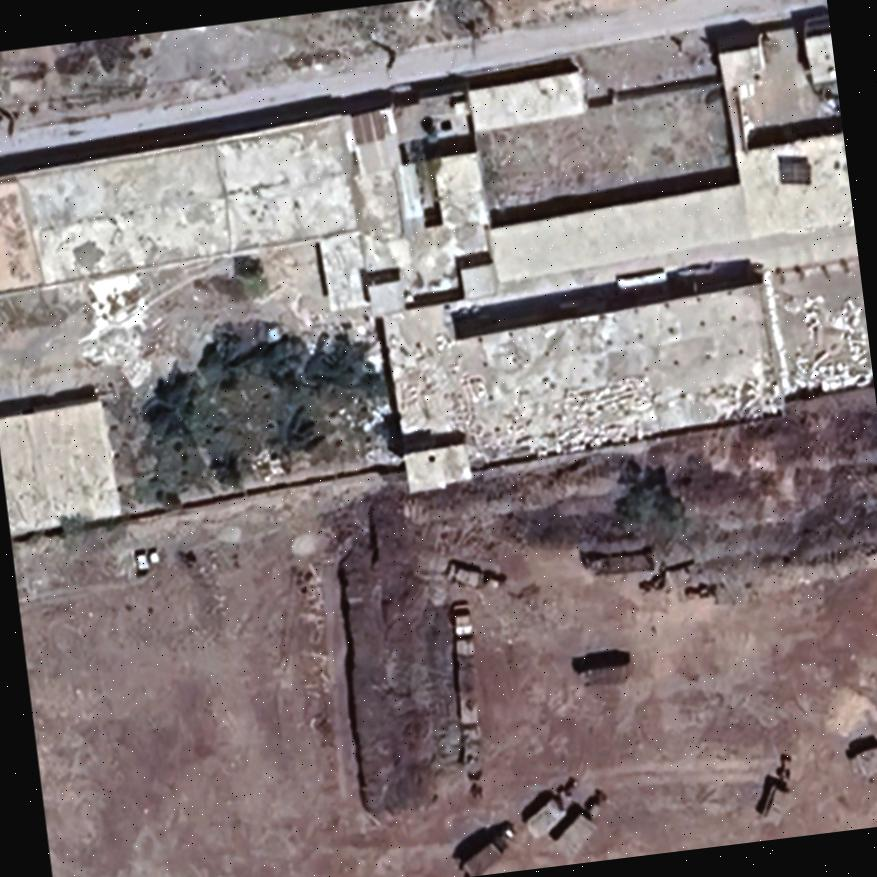Solarpanel: (774, 157, 811, 184)
